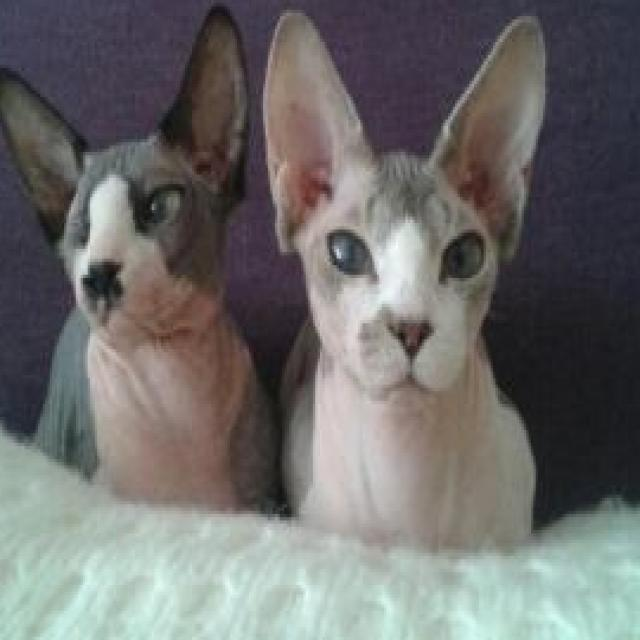Sphynx: (259, 5, 550, 546), (0, 0, 277, 520)
